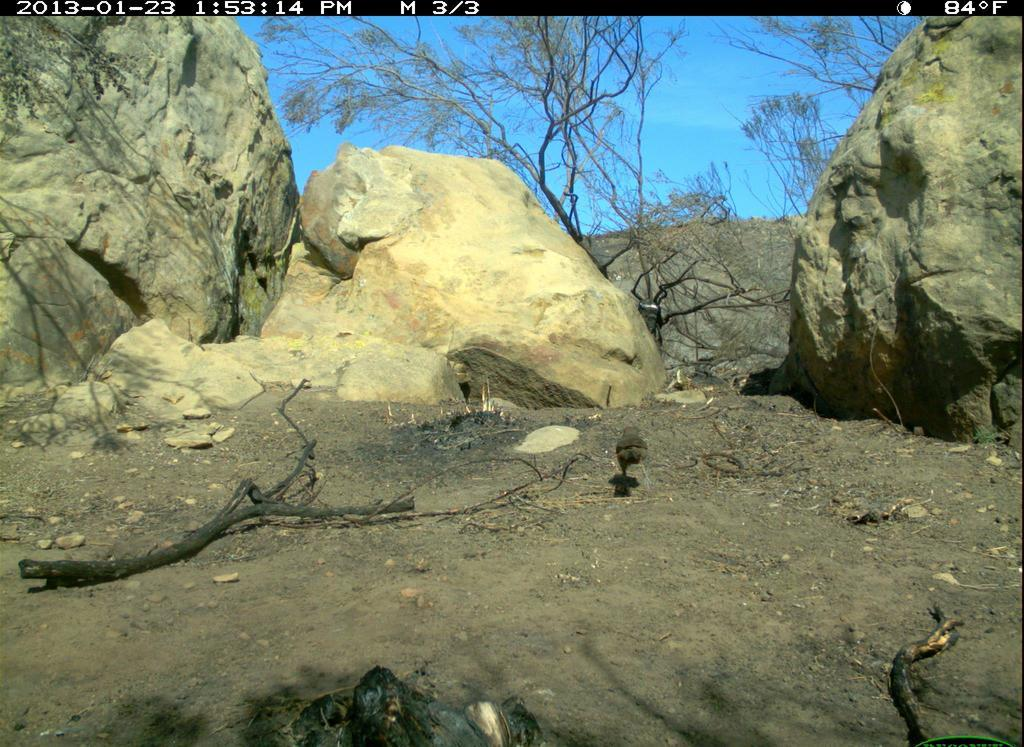bird: (605, 408, 676, 496)
